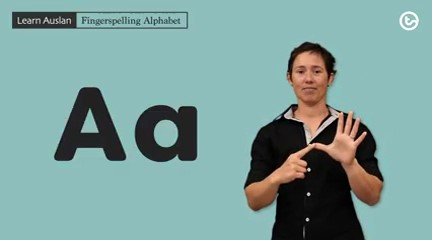A: (279, 109, 370, 185)
